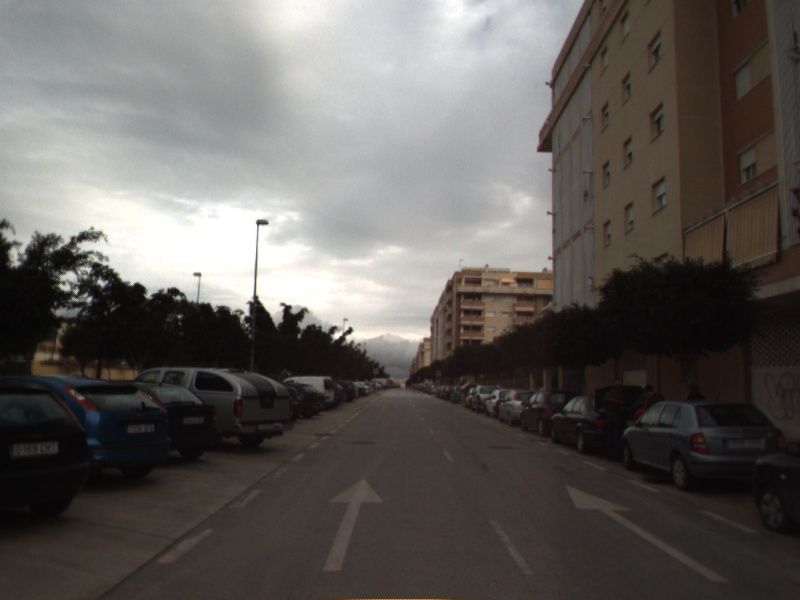STRAIGHT: (564, 483, 731, 584), (321, 476, 386, 573)
